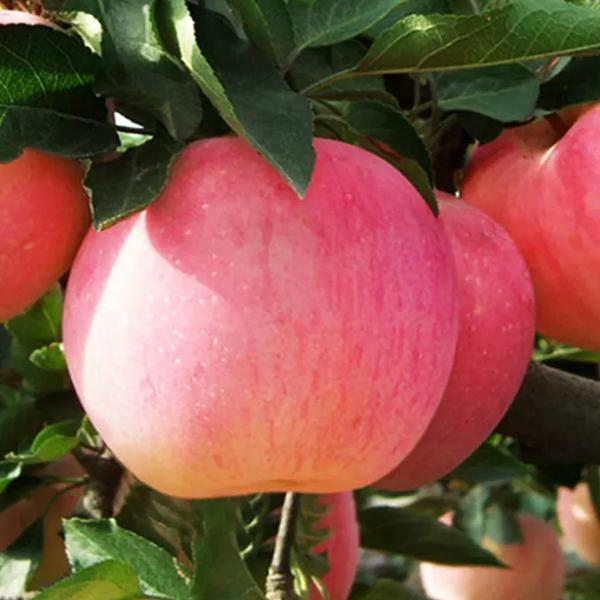apple: (59, 133, 456, 498), (459, 109, 599, 360), (1, 146, 91, 321)
